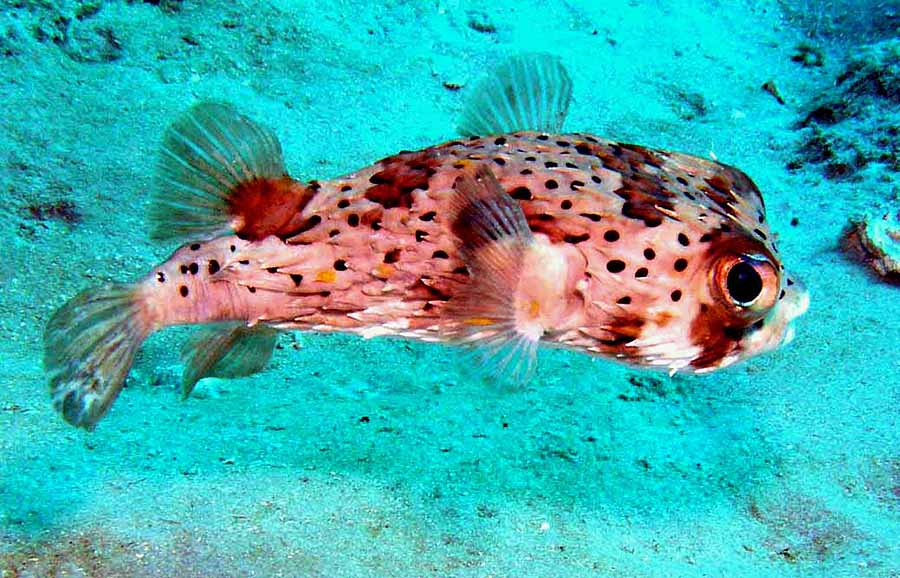Diodon_holocanthus: (21, 62, 841, 453)
